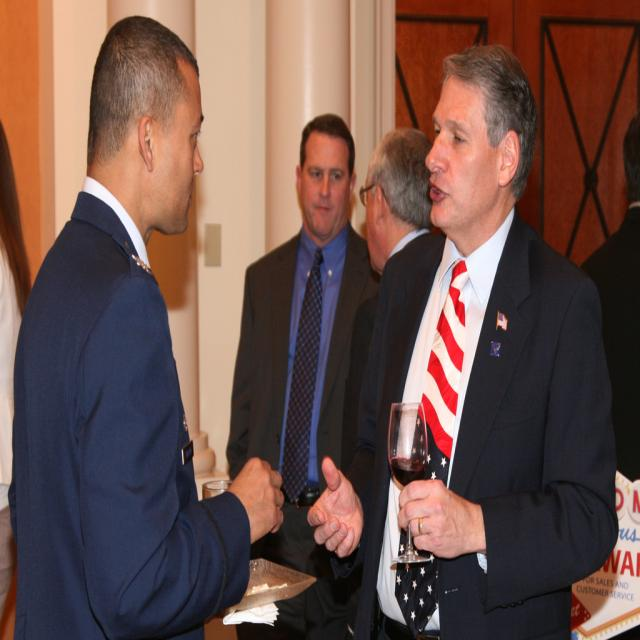no_helmet: (72, 120, 215, 286), (407, 136, 546, 284), (288, 169, 361, 270)
